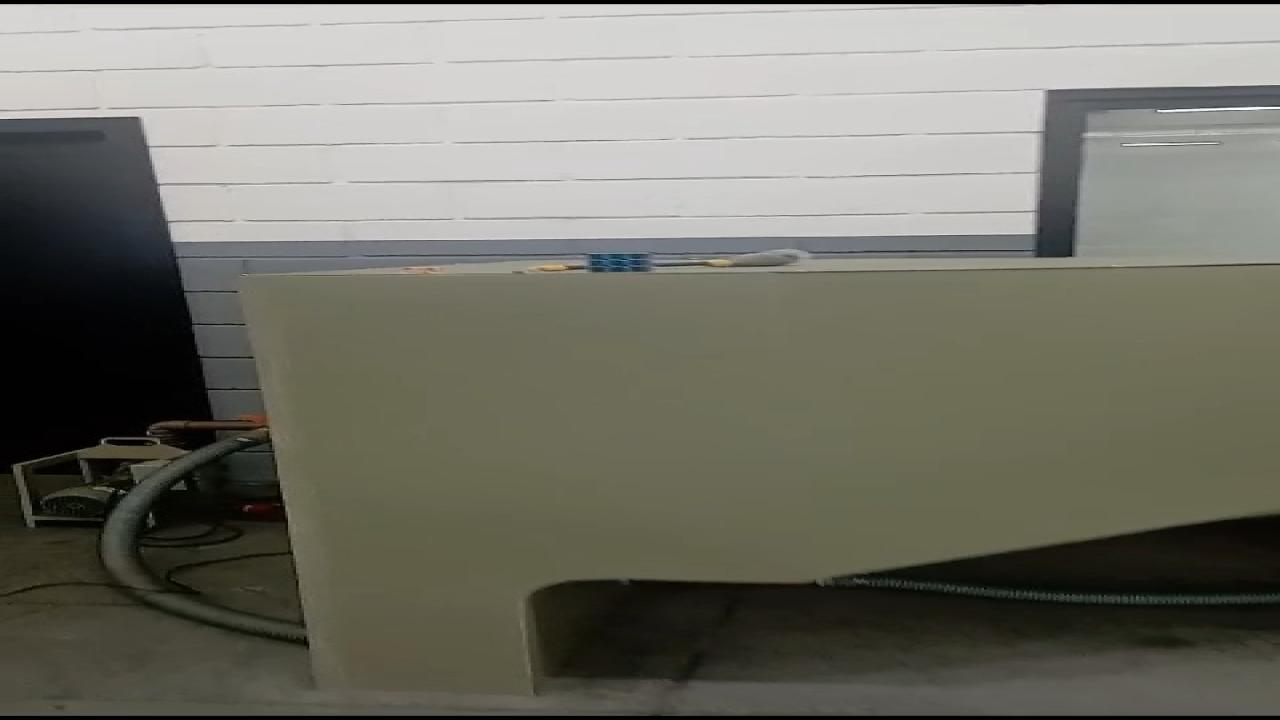Cube: (583, 251, 660, 274)
